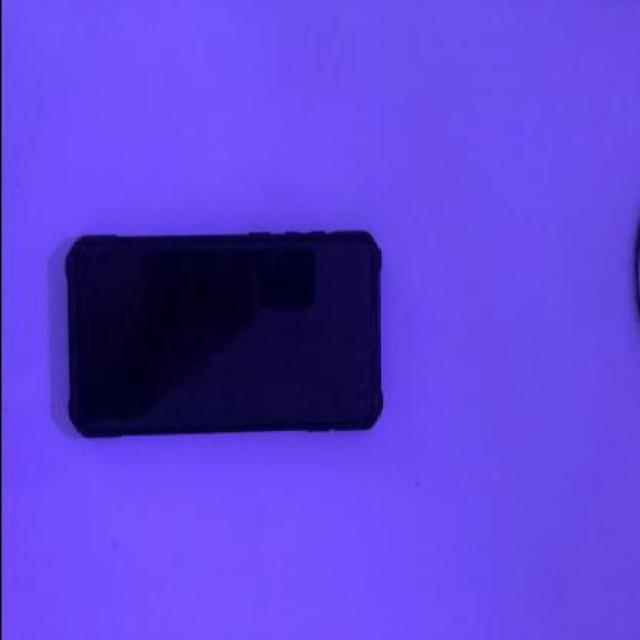phone: (63, 232, 380, 438)
